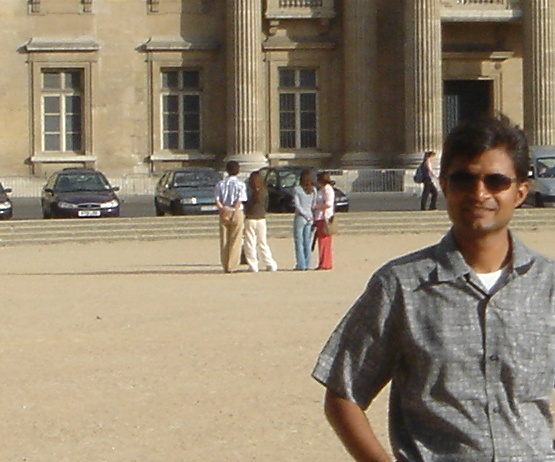person: (240, 163, 275, 273), (211, 158, 245, 270), (312, 168, 337, 270), (290, 166, 313, 269)
